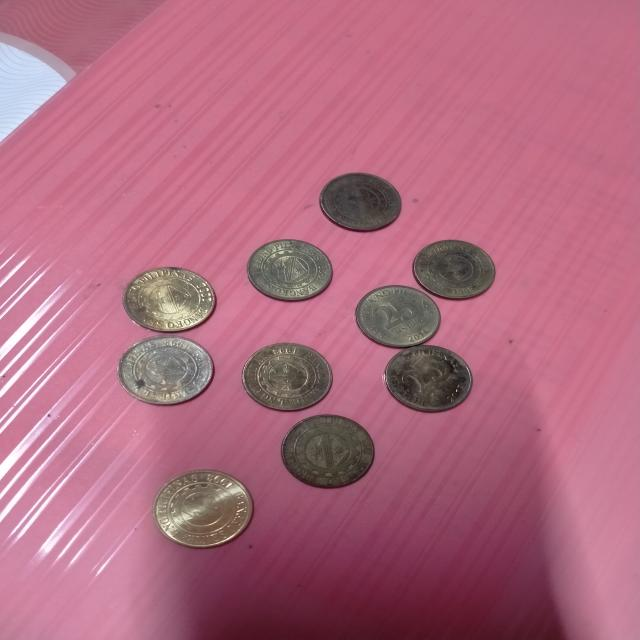25Cent_Old_Back: (154, 472, 249, 550), (246, 345, 330, 409), (248, 238, 334, 300), (125, 269, 209, 327)
